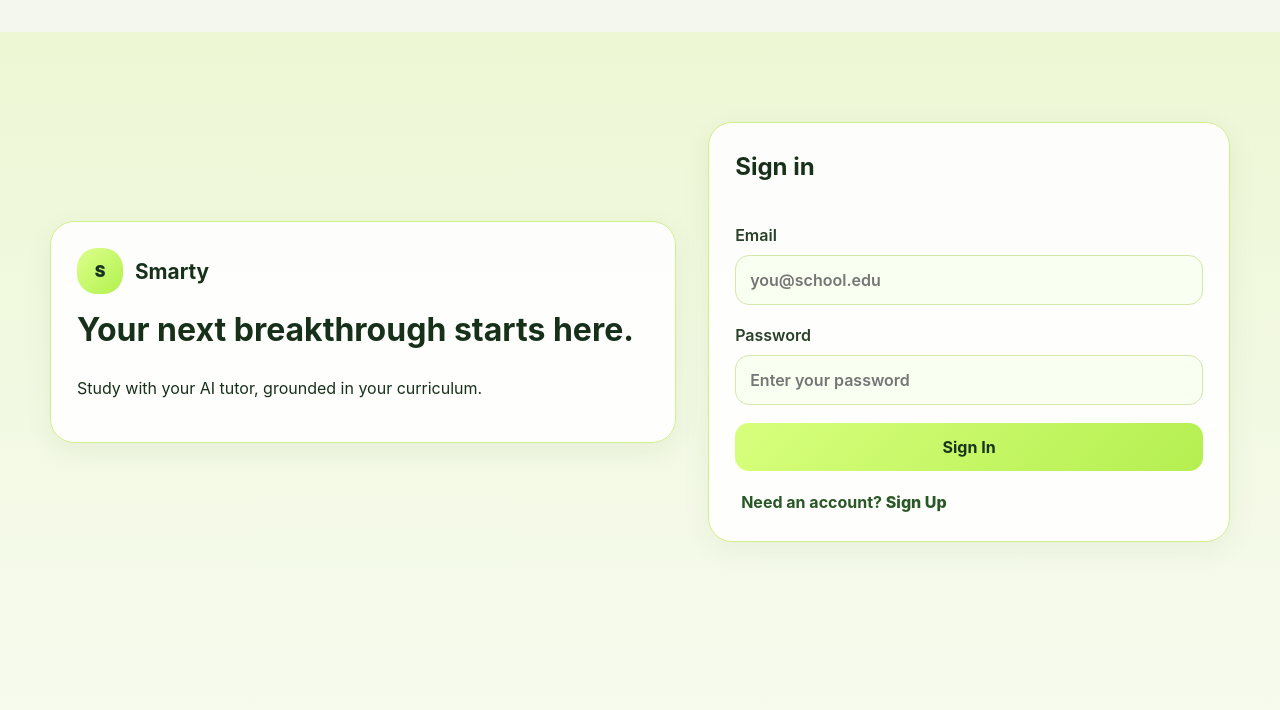
login screen › stores the token and opens the dashboard after a successful login
This screenshot has width=1280, height=710.
Type "ada@example.com" into the field labelled "Email" at [969, 280], box [735,255,1203,305]
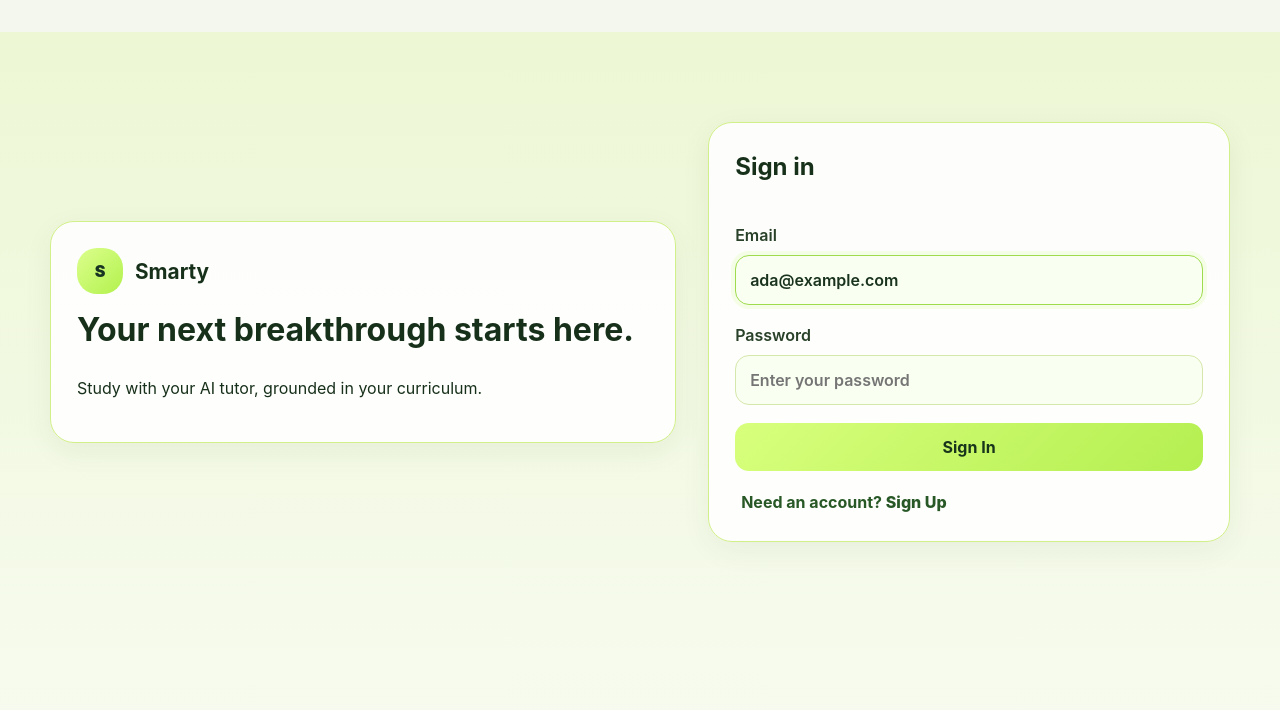
Type "correct-horse" into the password field labelled "Password" at [969, 380], box [735,355,1203,405]
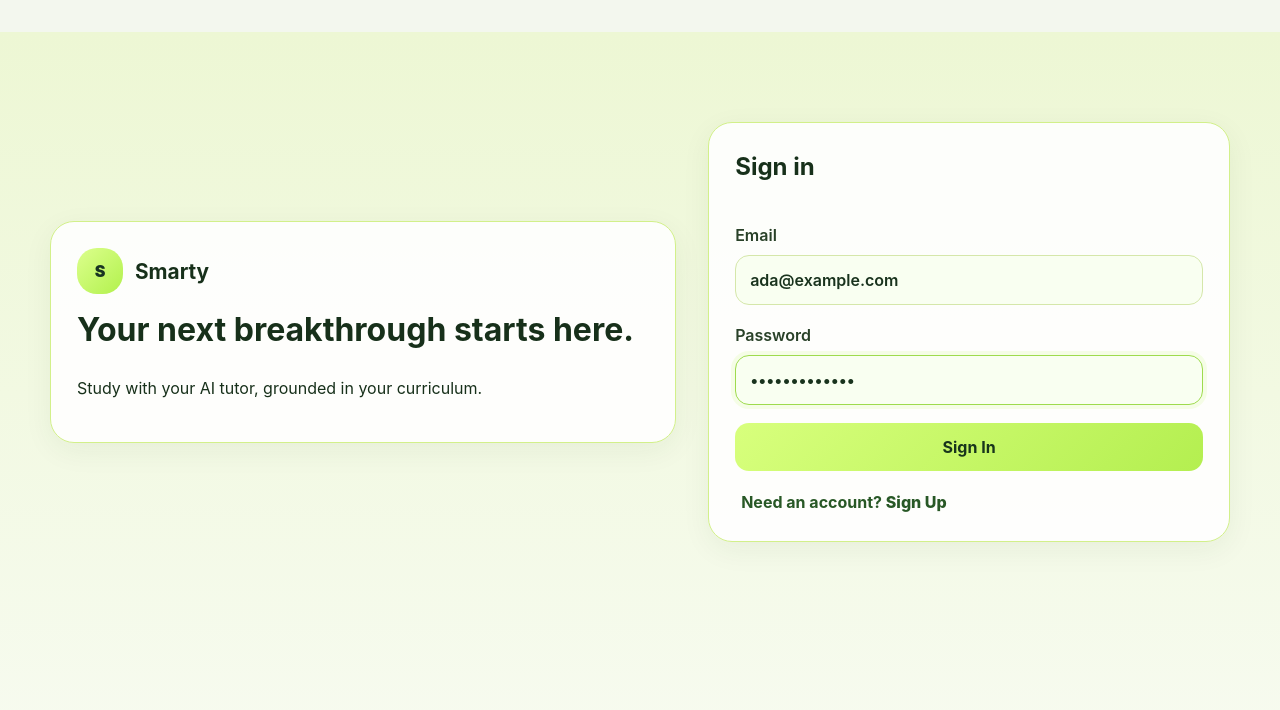
Click the button "Sign In" at [969, 447], box [735,423,1203,471]
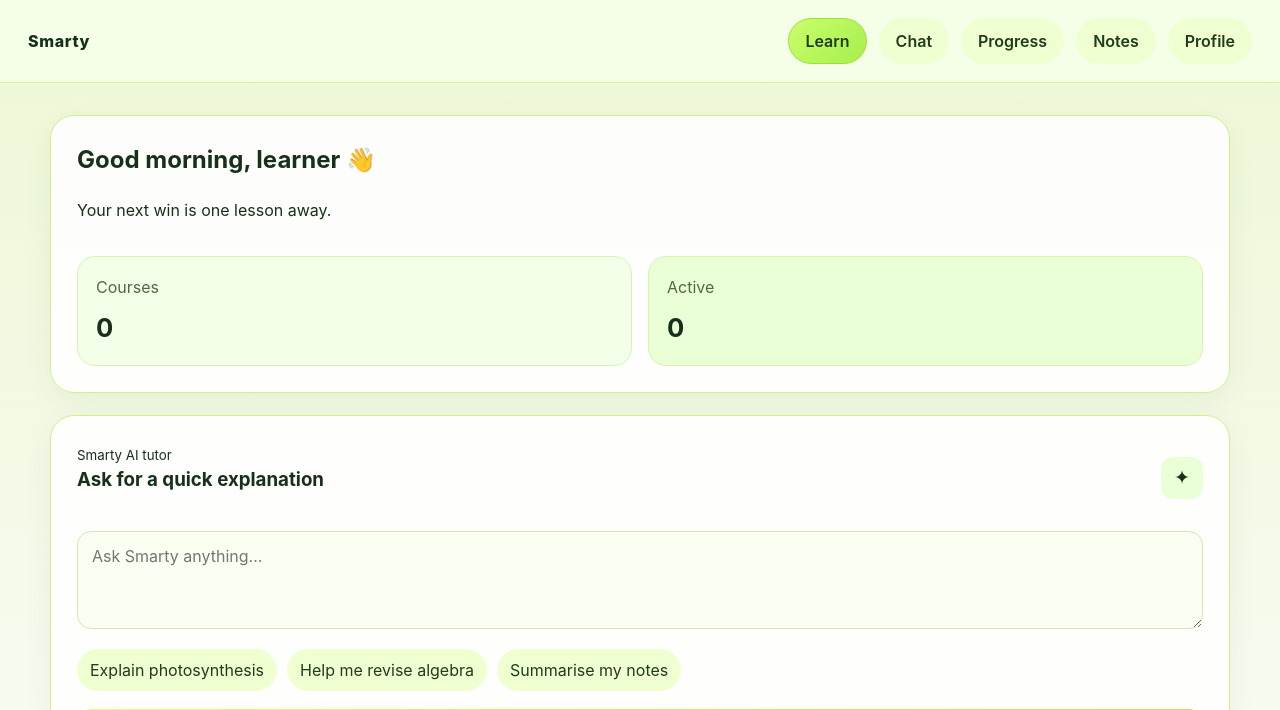
Now the text "Smarty AI tutor" is shown, box [77,447,172,463]
